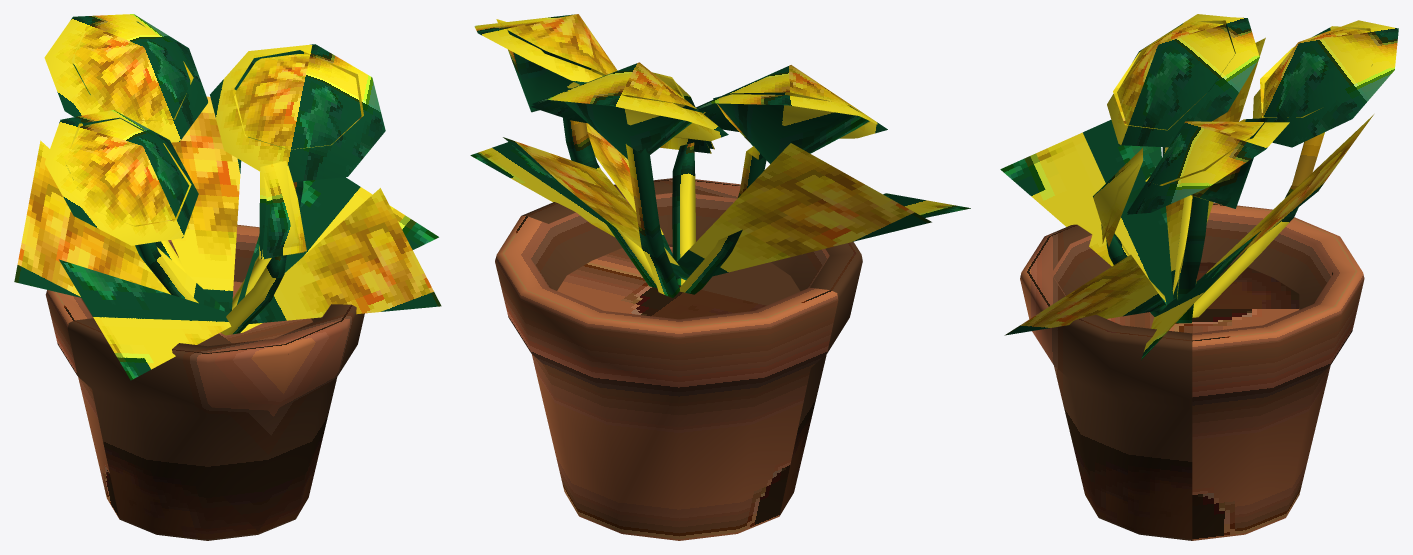
Rendered from flw_dandelion0.dae.
3 renders of one model, left to right at view 1: azimuth 30°, elevation 25°; view 2: azimuth 150°, elevation 25°; view 3: azimuth 270°, elevation 25°, orthographic. The views are drawn at different scales.
Parts seen in each view (by area): view 1: flw_dandelion0; view 2: flw_dandelion0; view 3: flw_dandelion0.
Boxes of the visible parts, x1,y1,x2,y2 form: flw_dandelion0: [14, 14, 441, 540]; flw_dandelion0: [470, 14, 970, 540]; flw_dandelion0: [1000, 14, 1398, 540].
Size of the model in its own units: 23.47 by 22.63 by 18.3.
2 materials, 2 textured.
